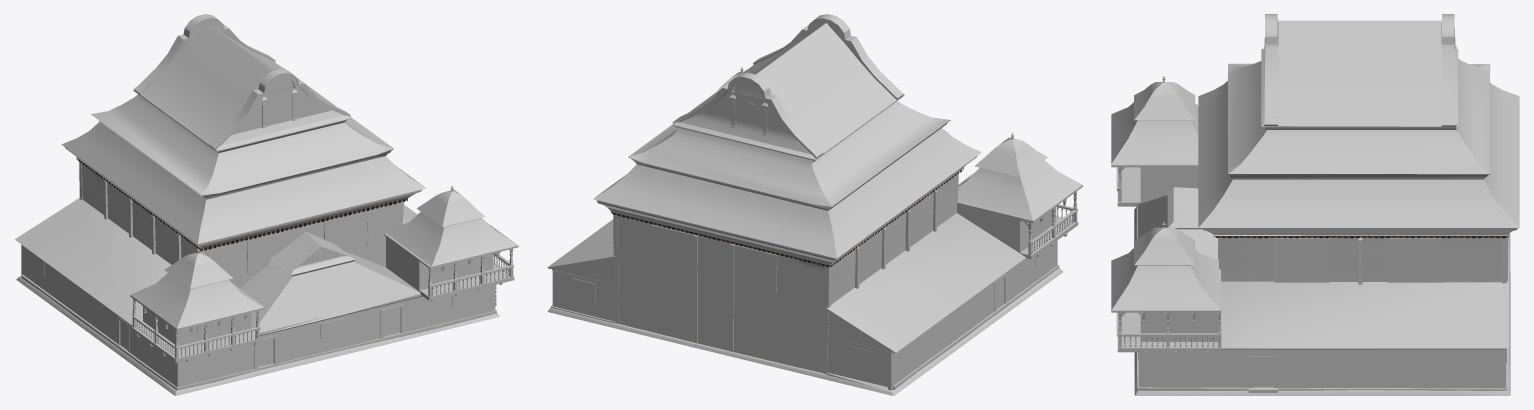
Rendered from wolpa.fbx.
3 renders of one model, left to right at view 1: azimuth 30°, elevation 25°; view 2: azimuth 150°, elevation 25°; view 3: azimuth 270°, elevation 25°, orthographic. The views are drawn at different scales.
Visible parts, largest first — view 1: wolpa; view 2: wolpa; view 3: wolpa.
Boxes of the visible parts, x1,y1,x2,y2 form: wolpa: [15, 14, 518, 395]; wolpa: [547, 14, 1082, 395]; wolpa: [1111, 14, 1519, 395].
Size of the model in its own units: 22.88 by 15.5 by 20.1.
